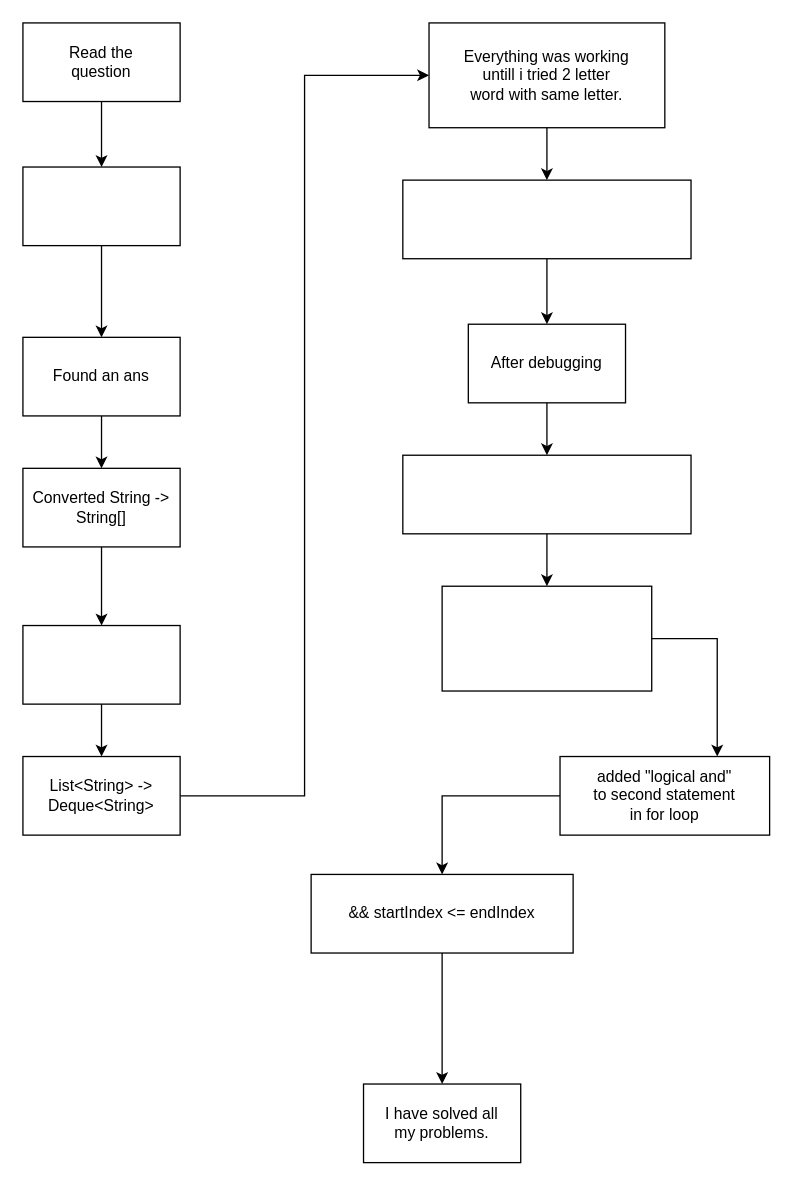
Image size: 793x1186. Some labels were removed from this diagram. The shapes that lost their labels are listed below. From the top down, each one's box as (x1, y1, x2, y2) in pixels, then its label:
(22, 166, 180, 246): Got stuck in how to use Deque
(402, 179, 691, 259): input: "aa", "11", "nn" threw NoSuchElementException
(402, 454, 691, 534): startingIndex > endingIndex
(441, 585, 652, 691): But there were no elements because they were removed
(22, 624, 180, 704): String[] -> List<String>
